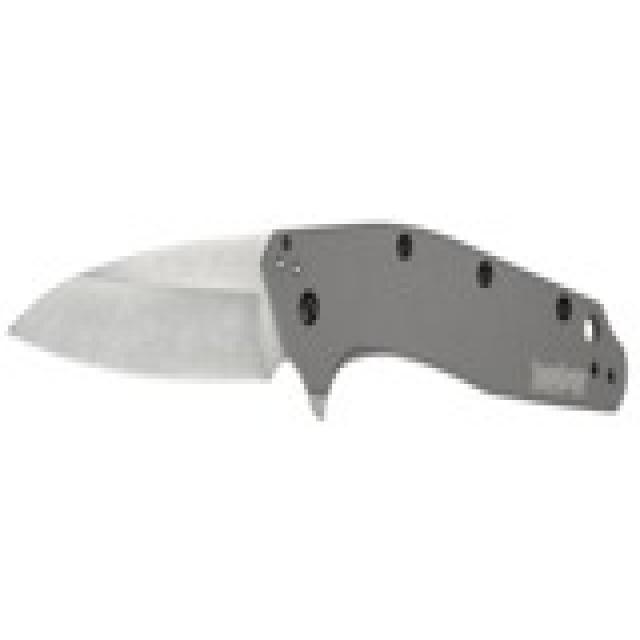Knife: (7, 257, 631, 431)
